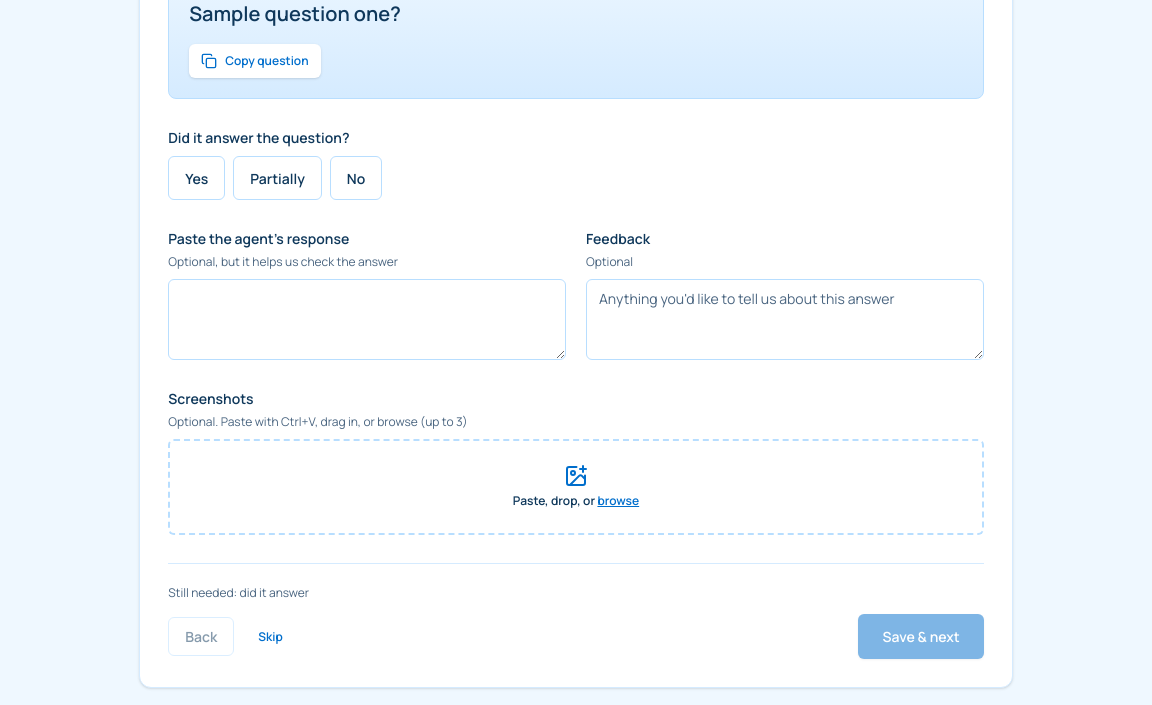
App › guided questions › moves with Skip and Back without saving
(page scrolled)
Expected: the button "Back" is disabled, x1=168 y1=617 x2=234 y2=656
Click the button "Skip".
click(270, 636)  # box x1=246 y1=620 x2=295 y2=654
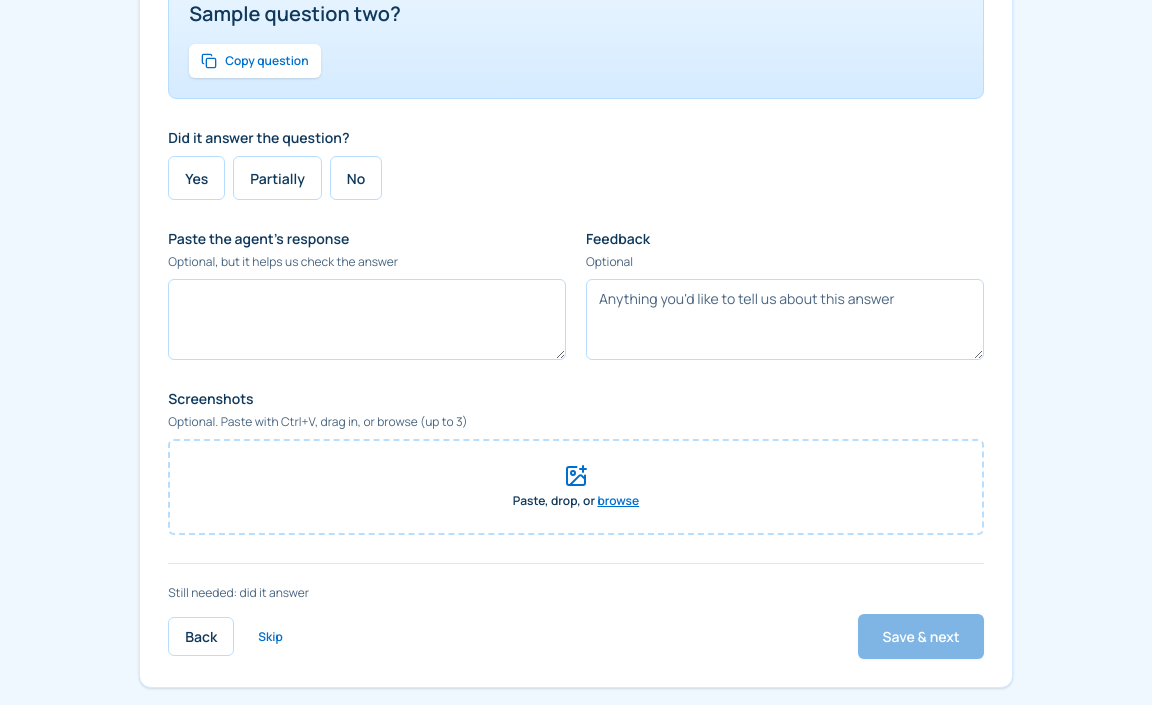
Click the button "Back".
click(201, 636)  # box x1=168 y1=617 x2=234 y2=656
(page scrolled)
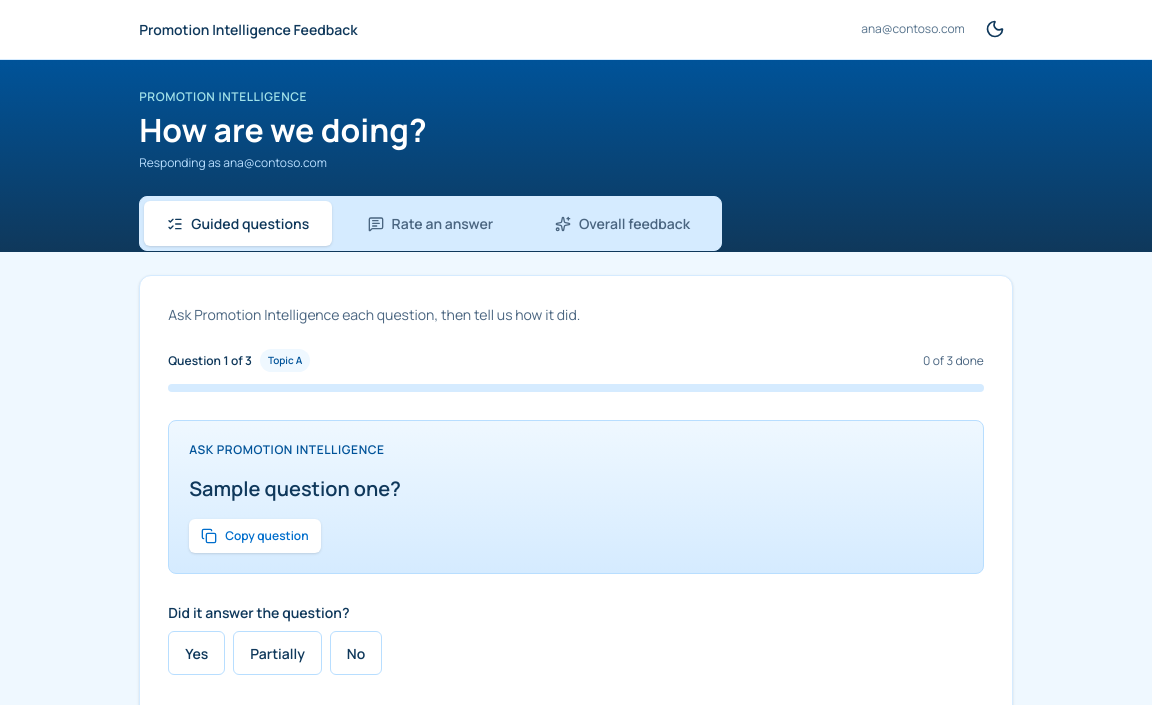
Expected: the text "Question 1 of 3" is shown, x1=168 y1=349 x2=310 y2=372
